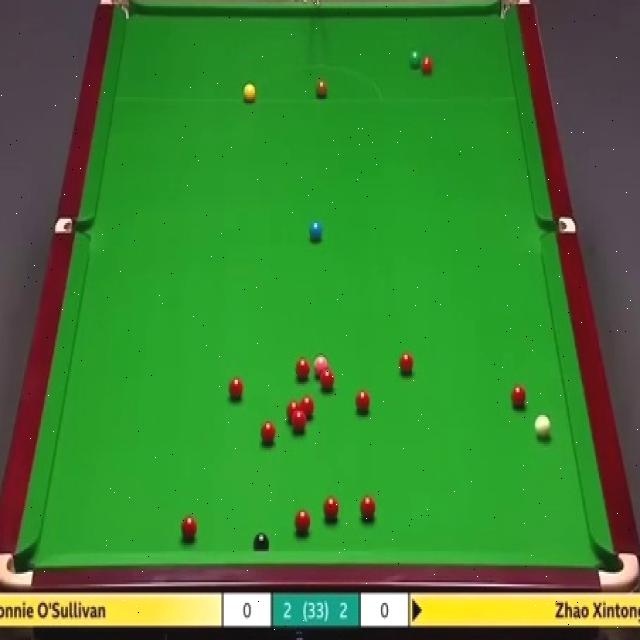black-ball: (253, 533, 269, 550)
blue-ball: (308, 220, 322, 242)
brown-ball: (314, 79, 328, 99)
green-ball: (410, 47, 421, 67)
pink-ball: (313, 354, 329, 379)
red-ball: (322, 496, 340, 524), (510, 382, 528, 410), (180, 514, 198, 540), (293, 508, 311, 534), (291, 409, 307, 437), (259, 419, 275, 446), (227, 375, 244, 400), (298, 394, 315, 419), (360, 496, 376, 519), (287, 400, 301, 425), (296, 358, 310, 382), (399, 353, 415, 374), (356, 389, 370, 413), (320, 371, 334, 391)
white-ball: (534, 414, 551, 438)
yellow-ball: (240, 83, 256, 103)
